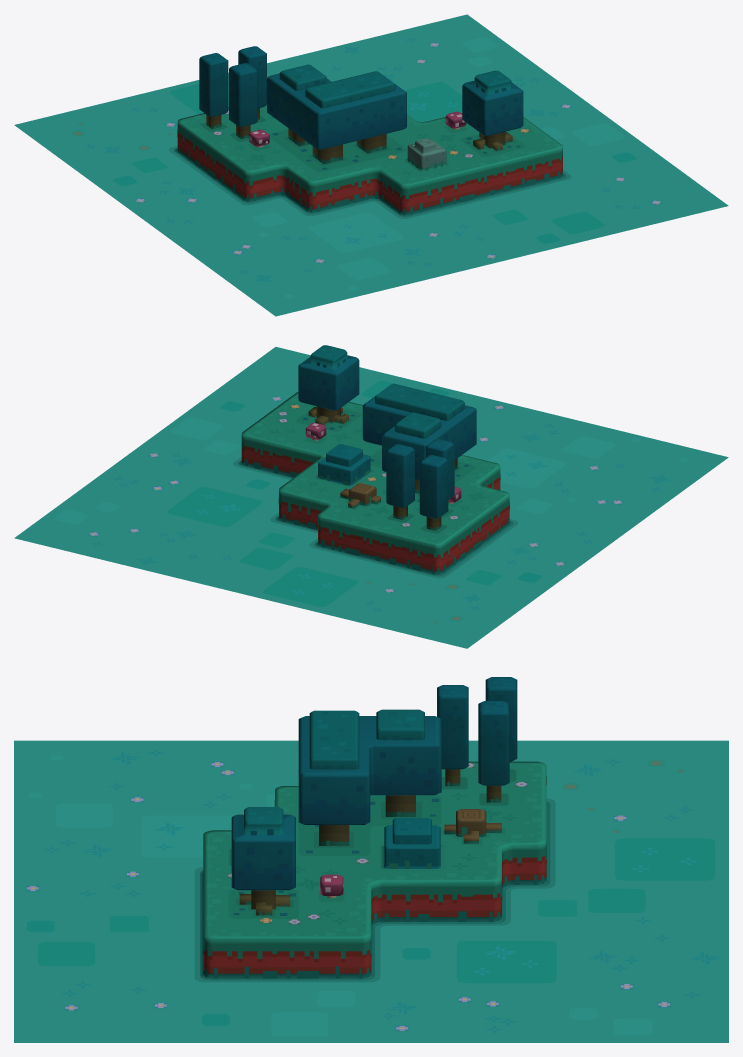
The model's file is C_forest1_07.fbx.
The picture shows the model from 3 angles, top to bottom: view 1: azimuth 30°, elevation 25°; view 2: azimuth 150°, elevation 25°; view 3: azimuth 270°, elevation 25°; orthographic projection. The views are drawn at different scales.
Visible parts, largest first — view 1: C_forest1_07; view 2: C_forest1_07; view 3: C_forest1_07.
Part boxes in pixels (box(x1,y1,x2,y2)): C_forest1_07: box(14, 14, 728, 316); C_forest1_07: box(14, 345, 728, 648); C_forest1_07: box(14, 677, 728, 1042).
Size of the model in its own units: 50 by 10.54 by 50.
